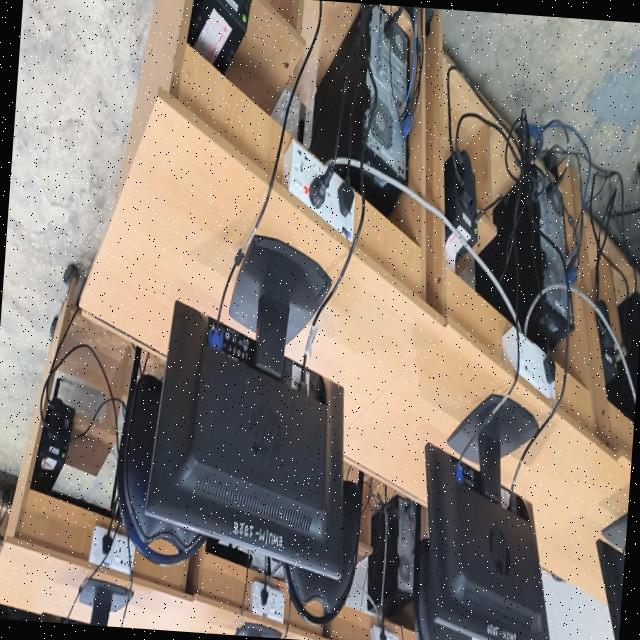Chair: (115, 346, 205, 564), (282, 470, 362, 622), (412, 521, 469, 640)
Cpu: (310, 7, 408, 182), (479, 187, 567, 349), (366, 494, 414, 616), (617, 291, 640, 395), (473, 259, 511, 321), (605, 360, 635, 421), (362, 166, 399, 215)
Monitor: (145, 233, 342, 576), (420, 393, 548, 640), (595, 510, 627, 640)
